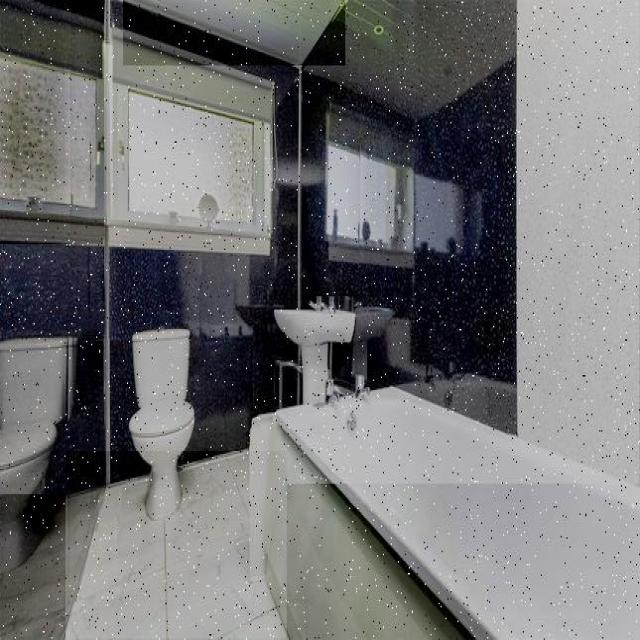Wall: (105, 0, 639, 484), (66, 451, 287, 639), (0, 240, 104, 494), (0, 0, 103, 244), (124, 0, 345, 65)
